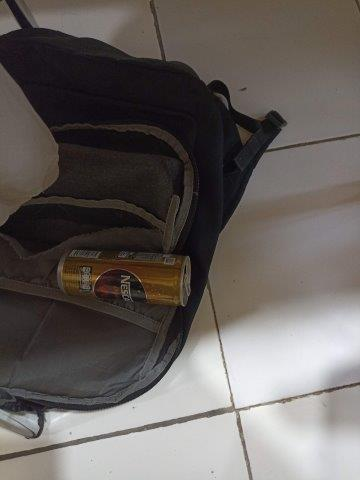kaleng: (57, 248, 191, 306)
